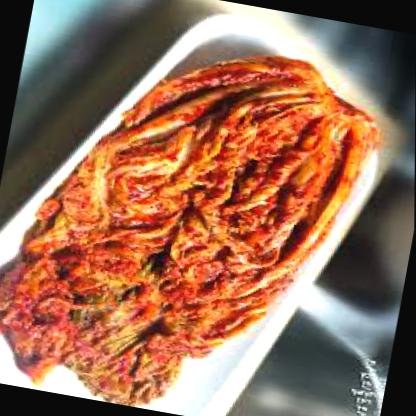Kimchi stew: (20, 48, 360, 407)
